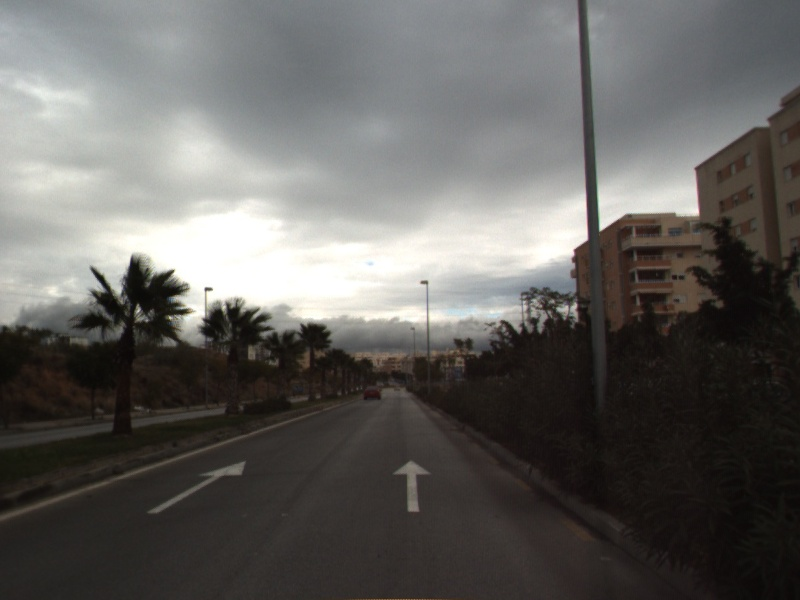STRAIGHT: (145, 459, 248, 515), (391, 458, 434, 514)
